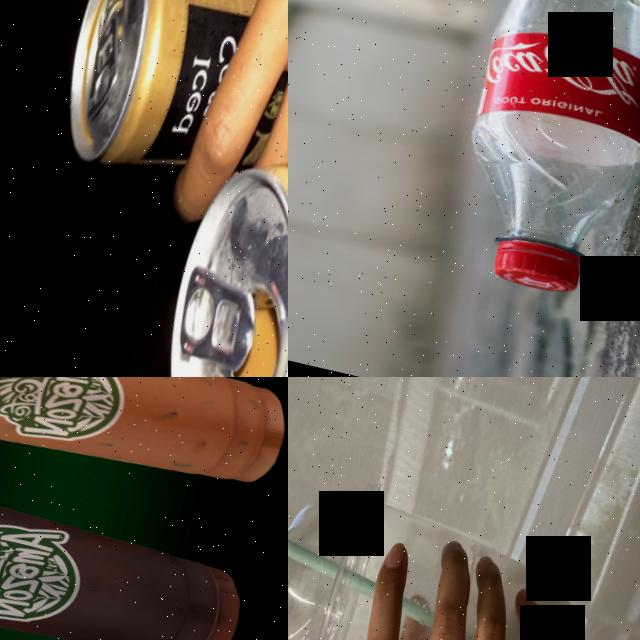bottle: (434, 0, 640, 308)
can: (48, 0, 288, 202), (133, 79, 288, 377)
cup: (0, 418, 258, 640), (288, 460, 598, 640), (0, 377, 288, 525)
